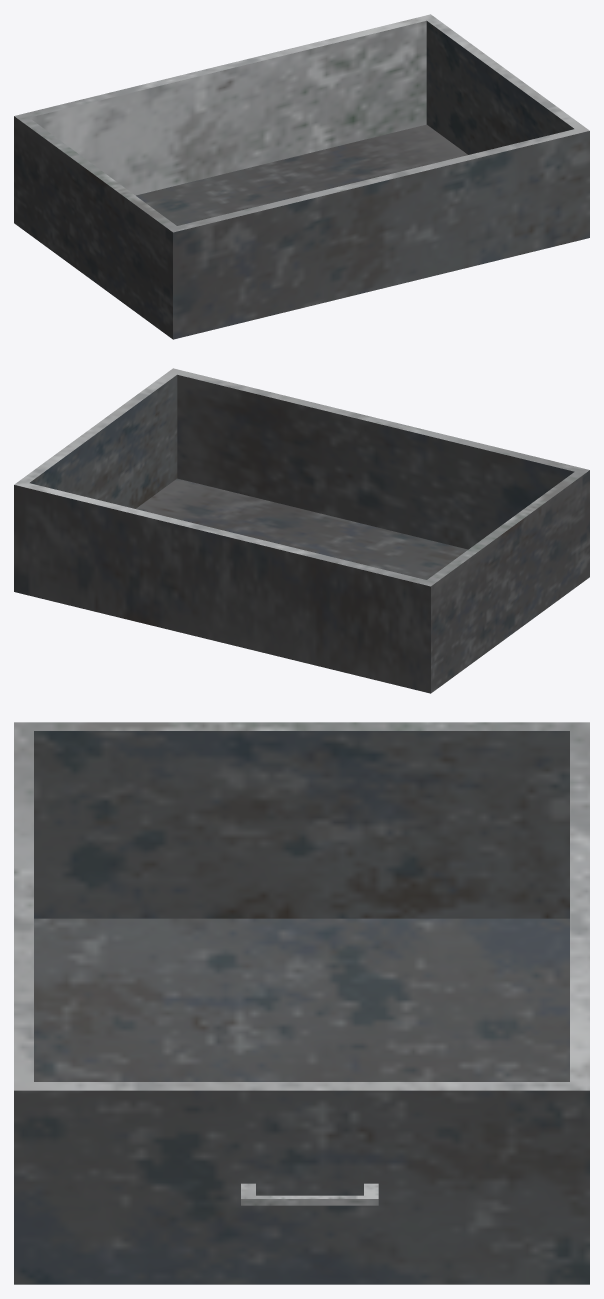
File: DeskDrawer_SM.fbx
3 views of the same model, one above another, from view 1: azimuth 30°, elevation 25°; view 2: azimuth 150°, elevation 25°; view 3: azimuth 270°, elevation 25° (orthographic). The views are drawn at different scales.
Visible parts, largest first — view 1: Box004; view 2: Box004; view 3: Box004.
Part boxes in pixels (box(x1,y1,x2,y2)): Box004: box(14, 14, 589, 339); Box004: box(14, 368, 589, 693); Box004: box(14, 722, 589, 1284).
Size of the model in its own units: 113 by 26.61 by 71.63.
1 material, 1 textured.
